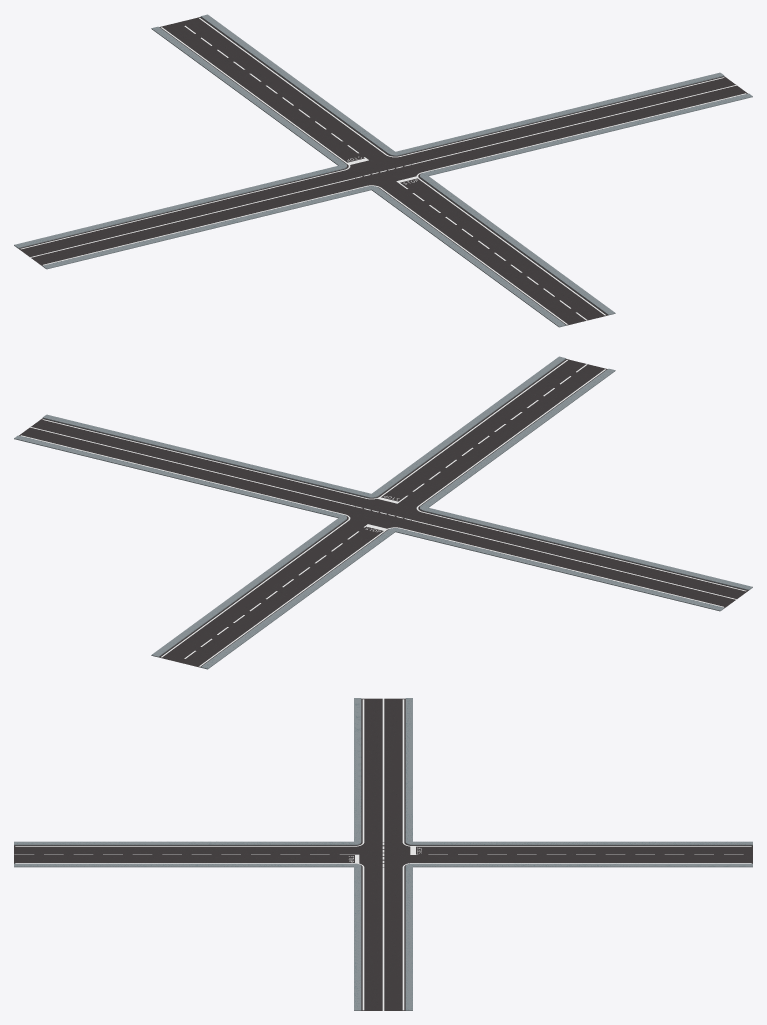
File: stop2.dae
The picture shows the model from 3 angles, top to bottom: view 1: azimuth 30°, elevation 25°; view 2: azimuth 150°, elevation 25°; view 3: azimuth 270°, elevation 25°; orthographic projection. The views are drawn at different scales.
Visible parts, largest first — view 1: SketchUp_029, SketchUp_001, SketchUp_002, SketchUp, SketchUp_003, SketchUp_015, SketchUp_027, SketchUp_030, SketchUp_028; view 2: SketchUp_029, SketchUp, SketchUp_003, SketchUp_001, SketchUp_002, SketchUp_015, SketchUp_027, SketchUp_030, SketchUp_028; view 3: SketchUp_029, SketchUp, SketchUp_001, SketchUp_002, SketchUp_003, SketchUp_015, SketchUp_027, SketchUp_028, SketchUp_030.
Boxes of the visible parts, x1,y1,x2,y2 form: SketchUp_029: (18, 17, 747, 325); SketchUp_001: (200, 14, 724, 155); SketchUp_002: (42, 186, 566, 327); SketchUp: (420, 93, 752, 315); SketchUp_003: (14, 26, 346, 248); SketchUp_015: (396, 93, 746, 315); SketchUp_027: (20, 27, 368, 249); SketchUp_030: (199, 18, 724, 157); SketchUp_028: (43, 185, 567, 324); SketchUp_029: (19, 359, 748, 667); SketchUp: (42, 356, 566, 497); SketchUp_003: (200, 528, 724, 669); SketchUp_001: (14, 435, 346, 657); SketchUp_002: (420, 368, 752, 590); SketchUp_015: (42, 360, 567, 503); SketchUp_027: (199, 524, 723, 666); SketchUp_030: (20, 435, 350, 657); SketchUp_028: (416, 369, 746, 591); SketchUp_029: (14, 698, 752, 1010); SketchUp: (14, 863, 361, 1010); SketchUp_001: (405, 863, 752, 1010); SketchUp_002: (14, 698, 361, 845); SketchUp_003: (405, 698, 752, 845); SketchUp_015: (15, 854, 364, 1010); SketchUp_027: (402, 699, 751, 854); SketchUp_028: (15, 699, 364, 846); SketchUp_030: (402, 863, 751, 1010).
Size of the model in its own units: 100 by 100 by 0.1.
4 materials, 2 textured.
